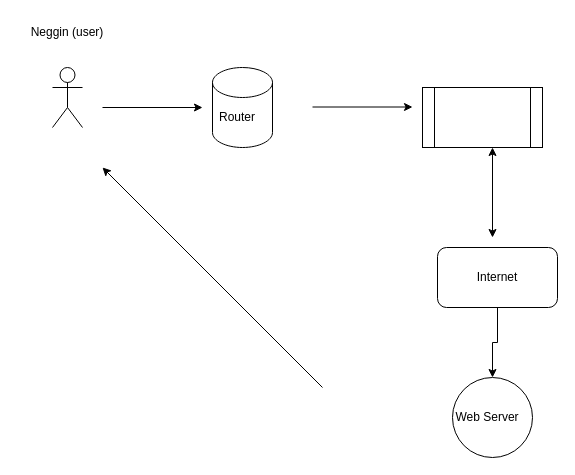
The diagram is 575 pixels wide and 475 high, and some of its shapes have lost their labels. Each missing label, with the centre of its shape:
Actor: the point at 67,97
ISP: the point at 482,117
